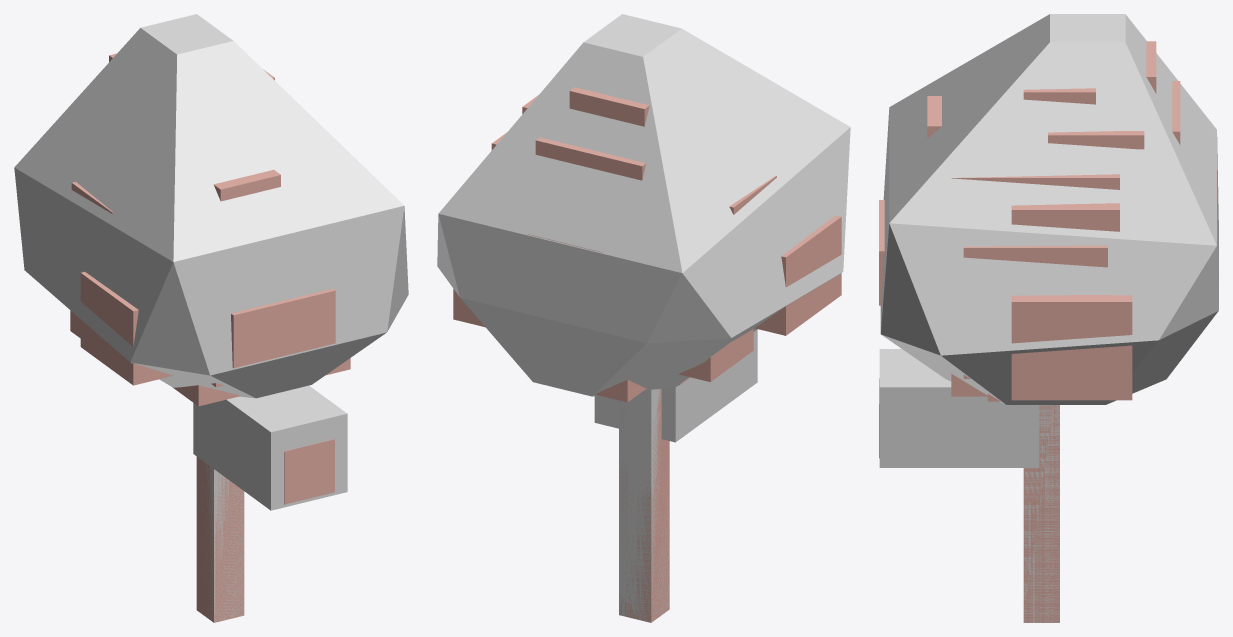
Rendered from Tree03_B1_1_01.FBX.
The picture shows the model from 3 angles, left to right: view 1: azimuth 30°, elevation 25°; view 2: azimuth 150°, elevation 25°; view 3: azimuth 270°, elevation 25°; orthographic projection. The views are drawn at different scales.
Visible parts, largest first — view 1: Tree03_B1_Damage_1_01, Tree03_B1_Live_1_01; view 2: Tree03_B1_Damage_1_01, Tree03_B1_Live_1_01; view 3: Tree03_B1_Damage_1_01, Tree03_B1_Live_1_01.
Boxes of the visible parts, box(x1,y1,x2,y2) form: Tree03_B1_Damage_1_01: box(14, 14, 408, 622); Tree03_B1_Live_1_01: box(70, 53, 350, 622); Tree03_B1_Damage_1_01: box(437, 14, 850, 622); Tree03_B1_Live_1_01: box(453, 87, 841, 622); Tree03_B1_Damage_1_01: box(879, 14, 1218, 622); Tree03_B1_Live_1_01: box(879, 41, 1216, 622).
Size of the model in its own units: 5.49 by 10.65 by 5.64.
